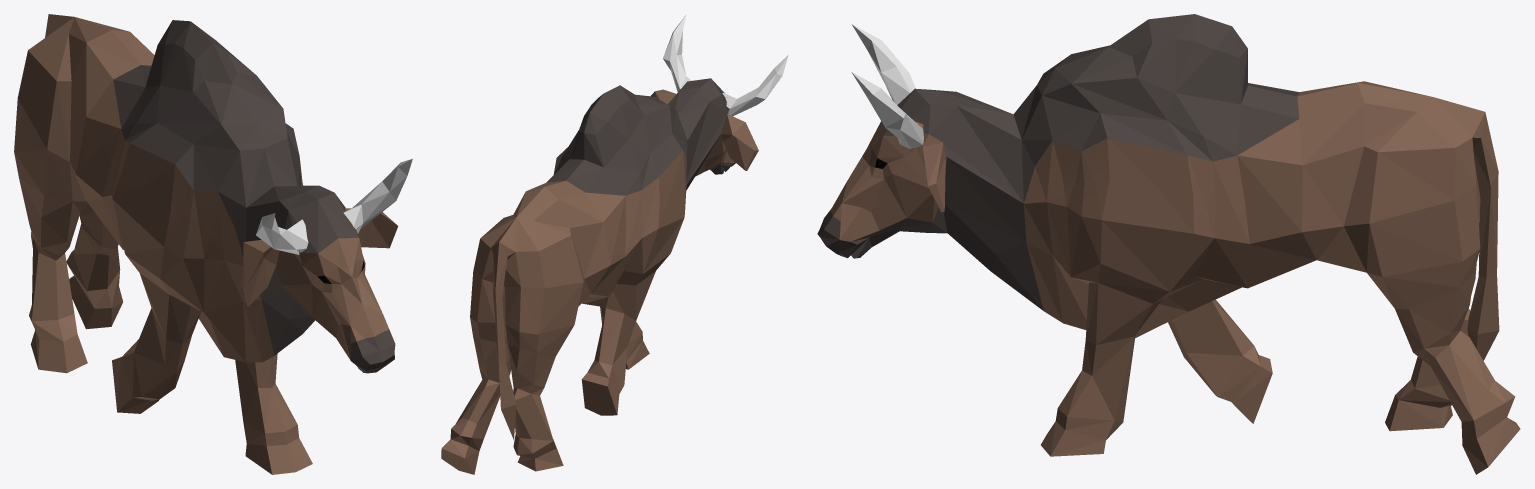
Rendered from toro_2.obj.
3 views of the same model, side by side, from view 1: azimuth 30°, elevation 25°; view 2: azimuth 150°, elevation 25°; view 3: azimuth 270°, elevation 25° (orthographic). The views are drawn at different scales.
Parts seen in each view (by area): view 1: Mesh1FBXASC032Model; view 2: Mesh1FBXASC032Model; view 3: Mesh1FBXASC032Model.
Boxes of the visible parts, <box> form: Mesh1FBXASC032Model: <box>14,14,412,474</box>; Mesh1FBXASC032Model: <box>441,14,788,474</box>; Mesh1FBXASC032Model: <box>817,14,1520,474</box>.
Bounding box in the file's own units: 252 × 622 × 917.
Materials: 1 (1 with a texture image).
